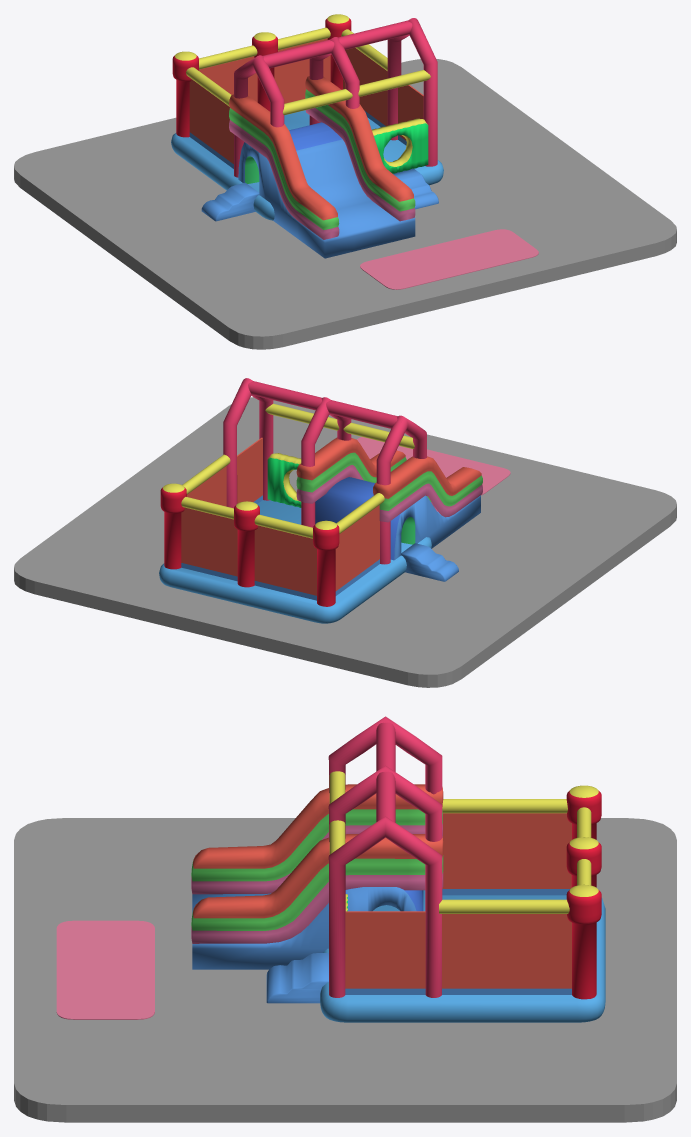
The picture shows the model from 3 angles, top to bottom: view 1: azimuth 30°, elevation 25°; view 2: azimuth 150°, elevation 25°; view 3: azimuth 270°, elevation 25°; orthographic projection. The views are drawn at different scales.
Parts seen in each view (by area): view 1: ground.003, Plane.003, ground.005, Plane.002, Plane.004, Circle.011; view 2: ground.003, Plane.003, Plane.002, Plane.004, ground.005, Circle.011; view 3: ground.003, Plane.003, Plane.004, ground.005, Plane.002, Circle.011.
Boxes of the visible parts, x1=… form: ground.003: x1=14, y1=59, x2=676, y2=349; Plane.003: x1=171, y1=14, x2=443, y2=258; ground.005: x1=360, y1=229, x2=538, y2=289; Plane.002: x1=229, y1=94, x2=339, y2=239; Plane.004: x1=305, y1=76, x2=415, y2=221; Circle.011: x1=199, y1=27, x2=330, y2=69; ground.003: x1=14, y1=397, x2=676, y2=687; Plane.003: x1=159, y1=378, x2=480, y2=623; Plane.002: x1=373, y1=456, x2=482, y2=522; Plane.004: x1=296, y1=437, x2=406, y2=503; ground.005: x1=357, y1=437, x2=510, y2=495; Circle.011: x1=181, y1=497, x2=312, y2=538; ground.003: x1=14, y1=818, x2=676, y2=1122; Plane.003: x1=192, y1=716, x2=605, y2=1022; Plane.004: x1=191, y1=834, x2=443, y2=943; ground.005: x1=56, y1=920, x2=154, y2=1019; Plane.002: x1=191, y1=784, x2=443, y2=894; Circle.011: x1=577, y1=807, x2=591, y2=885.
Bounding box in the file's own units: 32.88 × 11.5 × 32.07.
